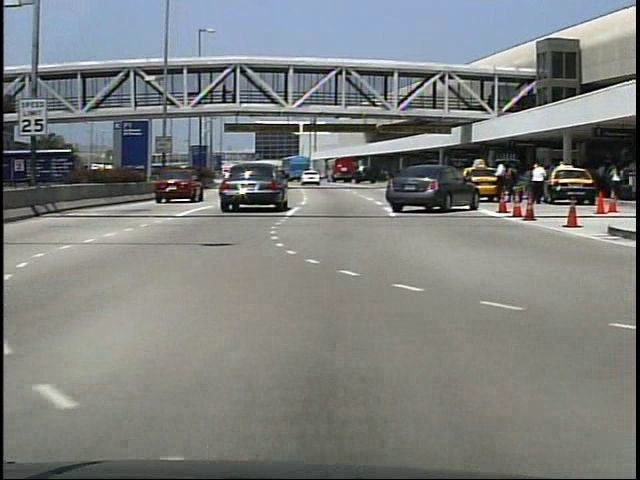person: (527, 158, 550, 204), (492, 161, 510, 204), (530, 160, 546, 203), (220, 86, 230, 108)
